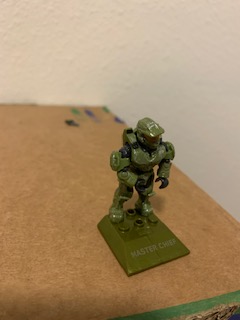chief: (110, 117, 176, 223)
spartan: (108, 115, 174, 221)
